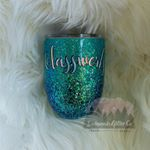cups: (42, 29, 109, 123)
